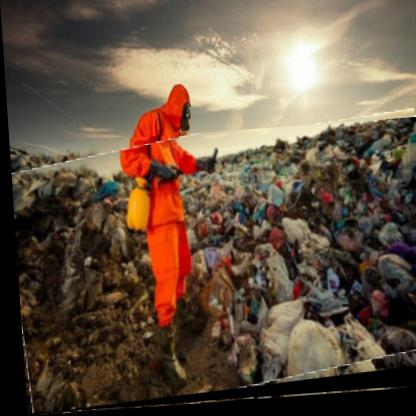Garbage: (8, 123, 416, 416)
